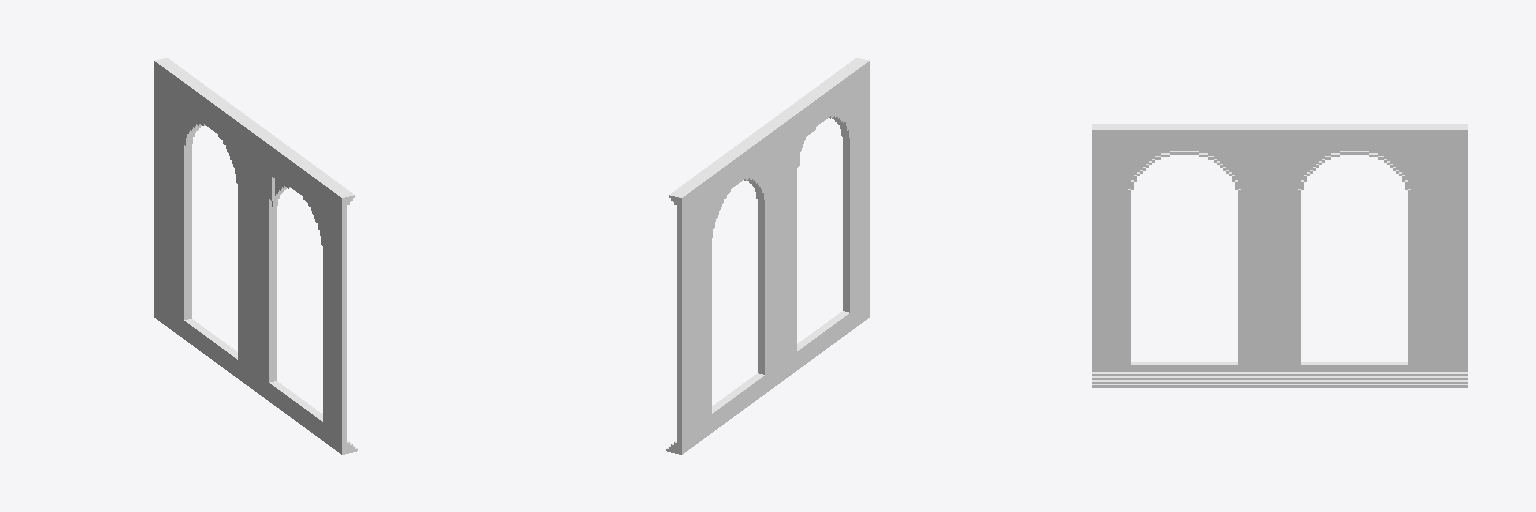
File: wall2-no-windows.obj
3 views of the same model, side by side, from view 1: azimuth 30°, elevation 25°; view 2: azimuth 150°, elevation 25°; view 3: azimuth 270°, elevation 25° (orthographic).
Size of the model in its own units: 6 by 95 by 126.